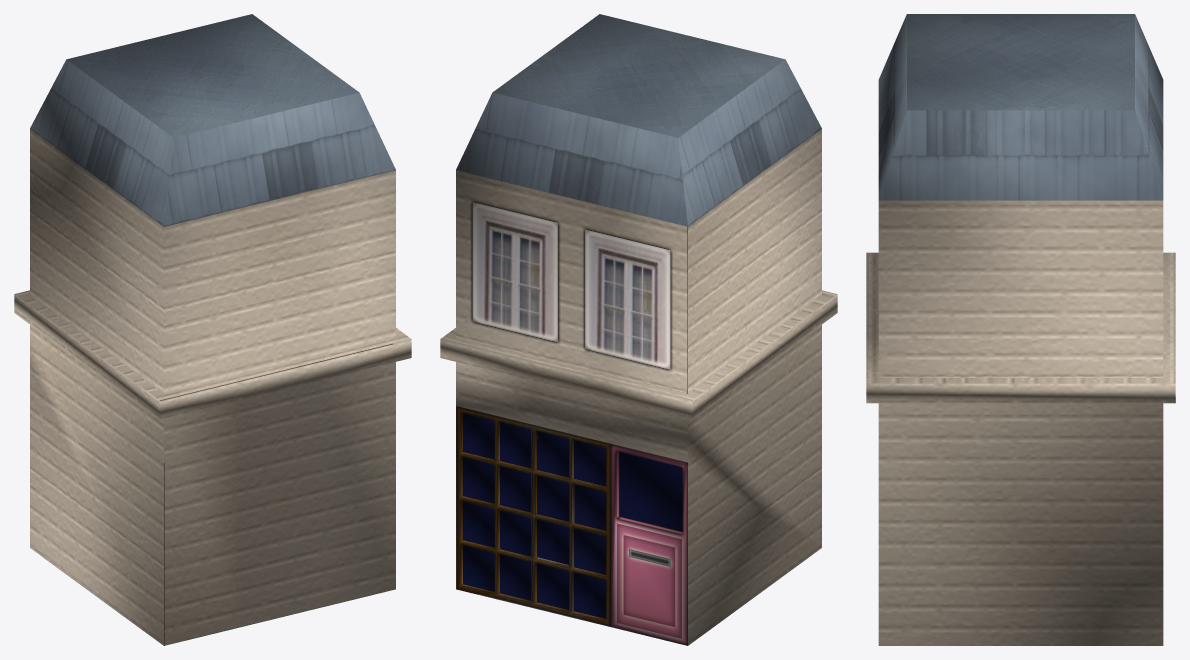
Rendered from building_16.obj.
The picture shows the model from 3 angles, left to right: view 1: azimuth 30°, elevation 25°; view 2: azimuth 150°, elevation 25°; view 3: azimuth 270°, elevation 25°; orthographic projection. The views are drawn at different scales.
Visible parts, largest first — view 1: Cube3_copy14; view 2: Cube3_copy14; view 3: Cube3_copy14.
Part boxes in pixels (bbox=[...]): Cube3_copy14: bbox=[14, 14, 411, 645]; Cube3_copy14: bbox=[440, 14, 837, 645]; Cube3_copy14: bbox=[866, 14, 1175, 645].
Size of the model in its own units: 298 by 556 by 298.
1 material, 1 textured.
